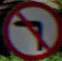Don't turn left: (3, 2, 53, 52)
